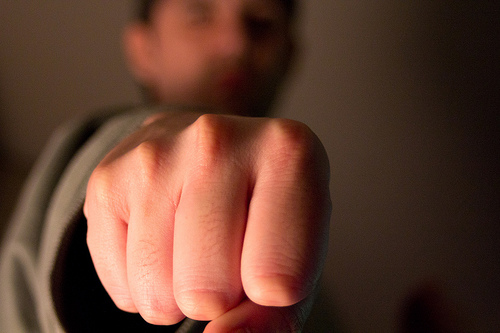fist: (93, 116, 339, 306)
